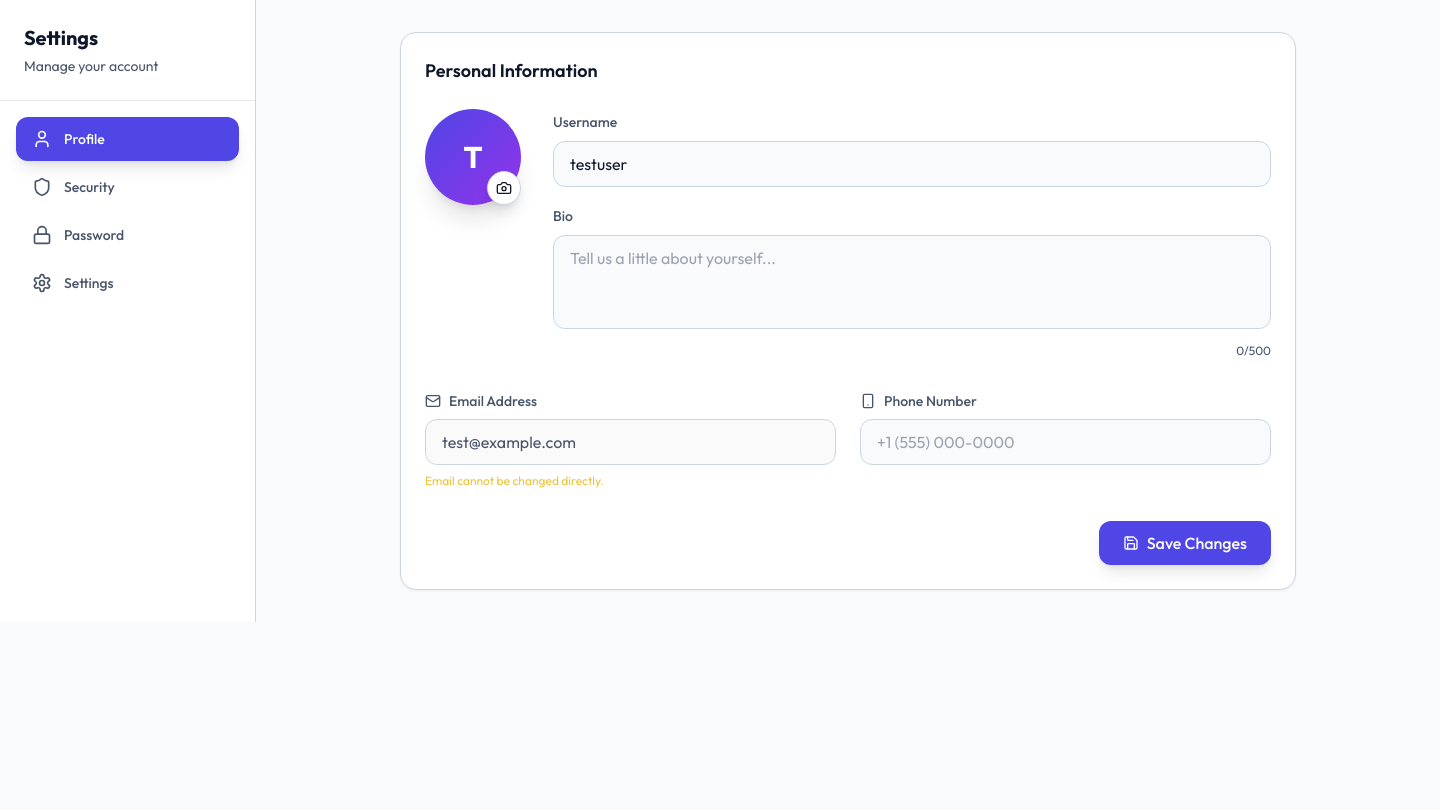
ProfileSettings Component › should render Login History in Security tab
# Switch to Security tab
What coordinates should you click on to do the following:
click the button "Security"
I would click on:
 (128, 187)
Its box is [16,165,239,209].
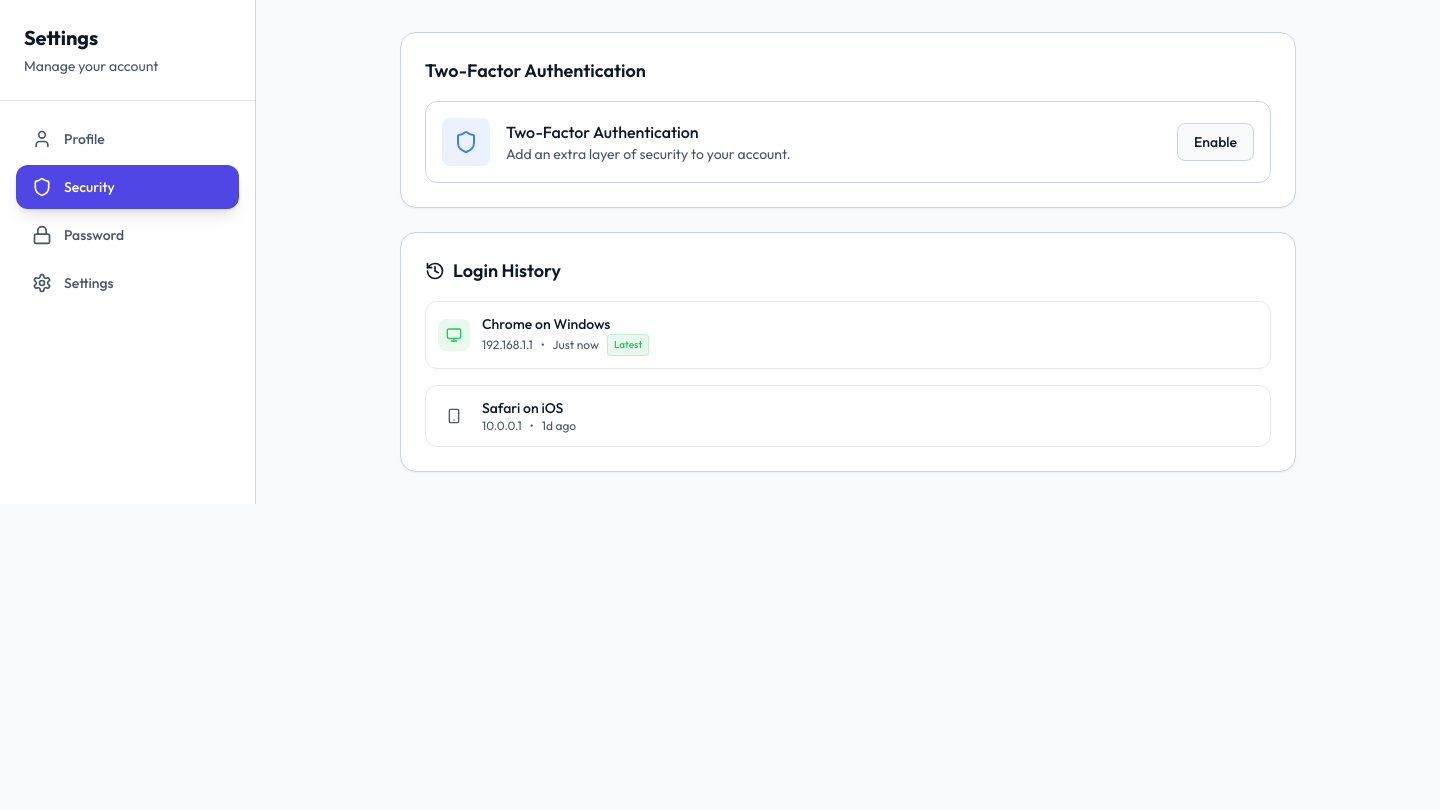
Now the heading "Login History" is shown, box [425,259,561,282]
Now the text "Latest" is shown, box [607,334,649,356]
Now the text "Chrome on Windows" is shown, box [482,315,610,333]
